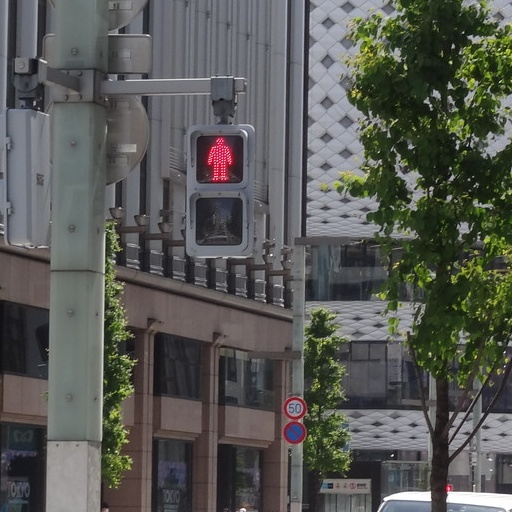Pedestrian_Signal_Red: (189, 122, 253, 256)
